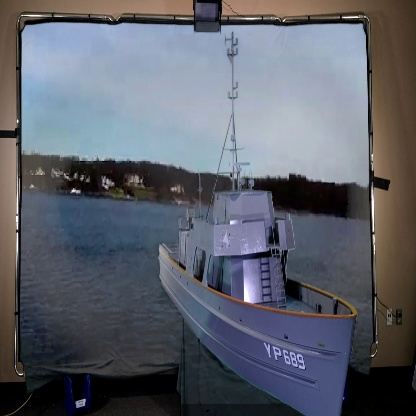YP689: (157, 29, 358, 416)
